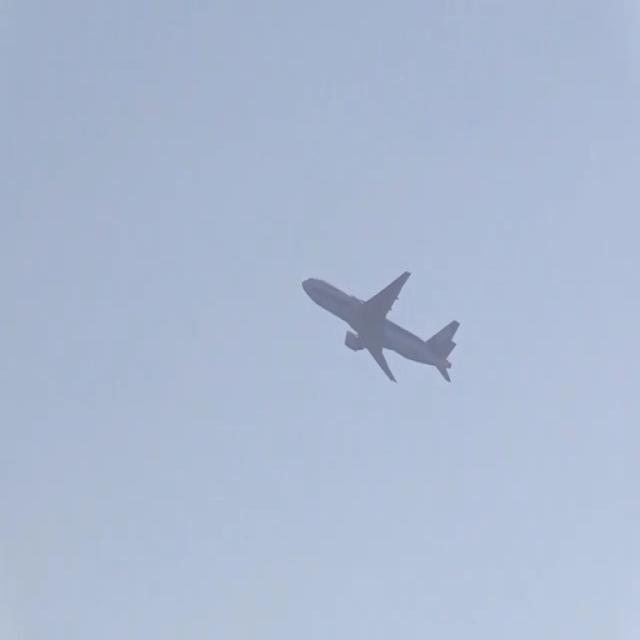AirPlane: (288, 245, 471, 405)
